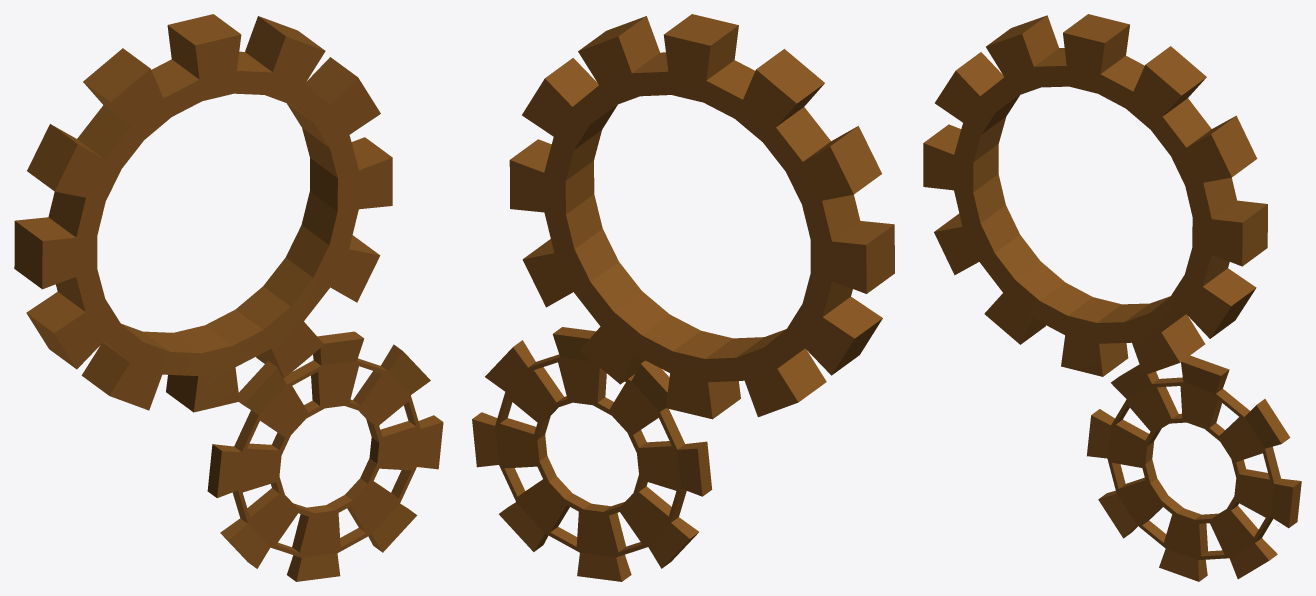
The model's file is rotele.fbx.
3 renders of one model, left to right at view 1: azimuth 30°, elevation 25°; view 2: azimuth 150°, elevation 25°; view 3: azimuth 330°, elevation 25°, orthographic. The views are drawn at different scales.
Visible parts, largest first — view 1: ingranaggio7_Cylinder.001; view 2: ingranaggio7_Cylinder.001; view 3: ingranaggio7_Cylinder.001.
Part boxes in pixels (x1=…): ingranaggio7_Cylinder.001: x1=14, y1=14, x2=443, y2=581; ingranaggio7_Cylinder.001: x1=472, y1=14, x2=894, y2=581; ingranaggio7_Cylinder.001: x1=923, y1=14, x2=1301, y2=581.
Bounding box in the file's own units: 543 × 731 × 65.35.
